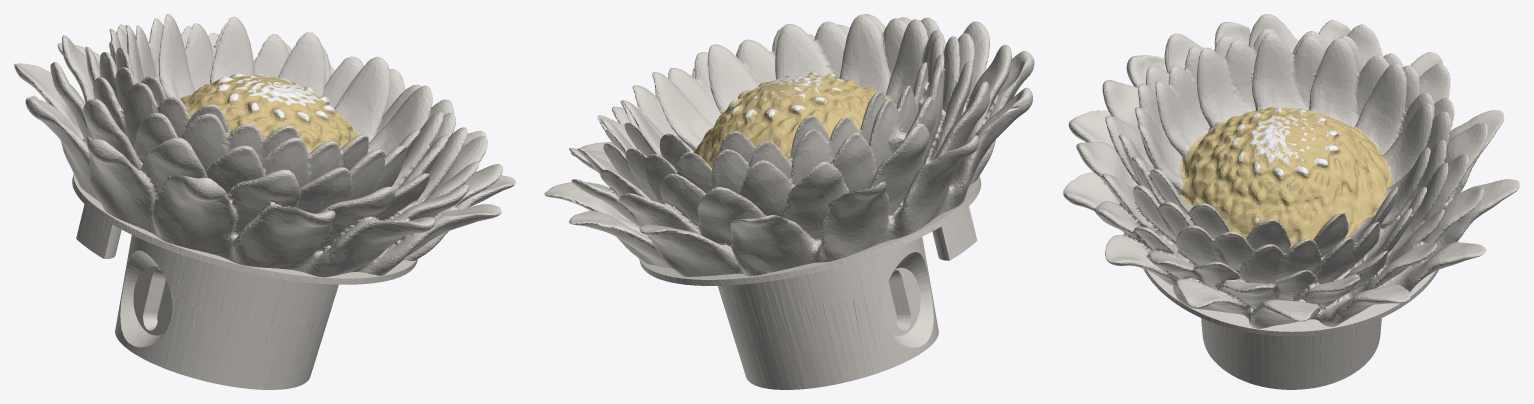
Rendered from frontpanel_white.glb.
The picture shows the model from 3 angles, left to right: view 1: azimuth 30°, elevation 25°; view 2: azimuth 150°, elevation 25°; view 3: azimuth 270°, elevation 25°; orthographic projection. The views are drawn at different scales.
Size of the model in its own units: 0.0529 by 0.0386 by 0.0551.
